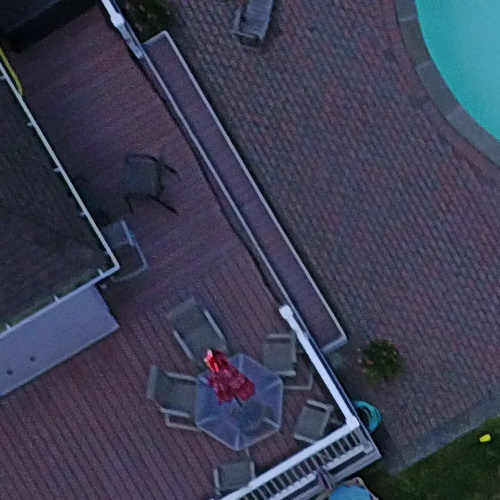porch: (4, 1, 417, 489)
